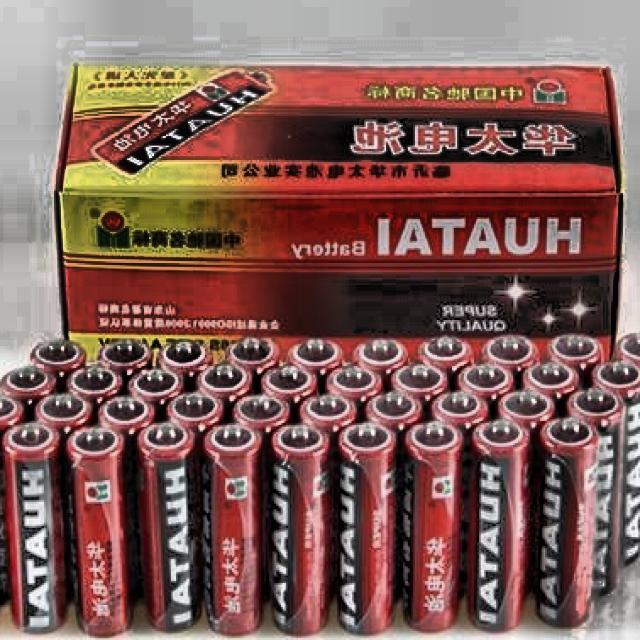Non-Valuable Waste - Batteries: (66, 426, 131, 635), (2, 421, 65, 632), (402, 421, 463, 631), (138, 423, 200, 629), (468, 420, 529, 629), (537, 417, 598, 625), (204, 424, 262, 635), (339, 423, 397, 633), (271, 424, 329, 633), (567, 388, 625, 595), (593, 360, 640, 564), (0, 394, 25, 593), (0, 365, 57, 419), (523, 361, 580, 415), (127, 368, 184, 419), (550, 333, 603, 386), (420, 336, 473, 386), (31, 340, 84, 388), (35, 392, 92, 435), (160, 341, 213, 387), (482, 334, 538, 377), (261, 365, 317, 408), (498, 390, 555, 432), (167, 390, 223, 432), (367, 390, 423, 432), (432, 390, 489, 431), (196, 364, 252, 405), (392, 364, 449, 404), (326, 365, 383, 405), (99, 395, 154, 435), (68, 365, 123, 405), (458, 362, 514, 401), (301, 393, 355, 433), (234, 393, 289, 432), (289, 337, 341, 377), (355, 338, 407, 377), (227, 337, 279, 376), (100, 340, 152, 379), (616, 333, 640, 370)
